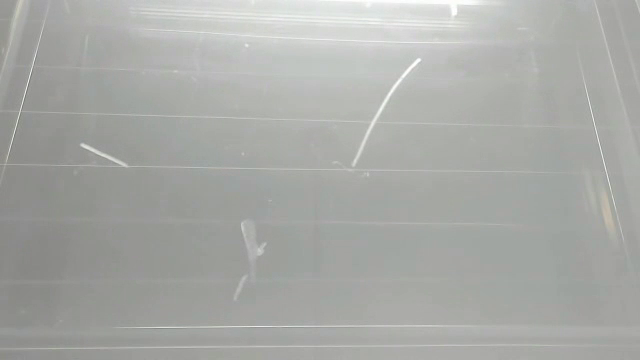alpha: (349, 56, 424, 171), (227, 239, 272, 304), (240, 216, 270, 282), (76, 138, 134, 171), (446, 1, 458, 20)
